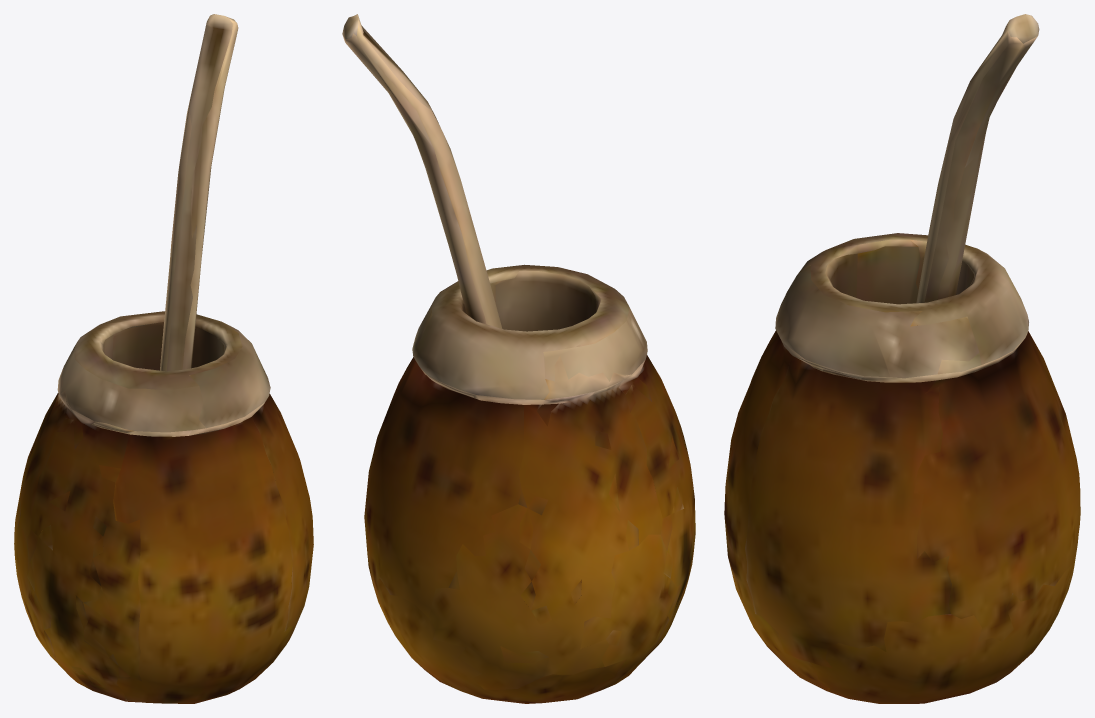
File: mate.movil.glb
The picture shows the model from 3 angles, left to right: view 1: azimuth 30°, elevation 25°; view 2: azimuth 150°, elevation 25°; view 3: azimuth 270°, elevation 25°; orthographic projection. The views are drawn at different scales.
Parts seen in each view (by area): view 1: geometry_0; view 2: geometry_0; view 3: geometry_0.
Boxes of the visible parts, bbox=[...] form: geometry_0: bbox=[14, 14, 313, 703]; geometry_0: bbox=[342, 14, 695, 703]; geometry_0: bbox=[724, 14, 1080, 703].
Size of the model in its own units: 0.08 by 0.1799 by 0.08.
Materials: 1 (1 with a texture image).
